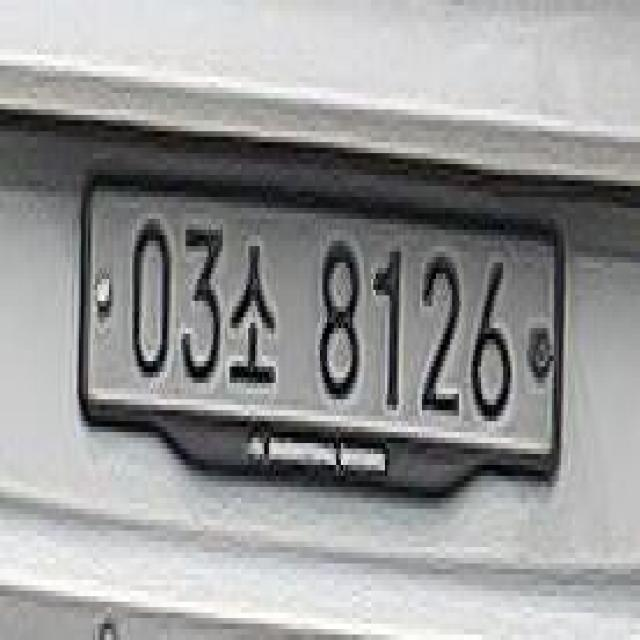illegal_plate: (79, 161, 569, 512)
